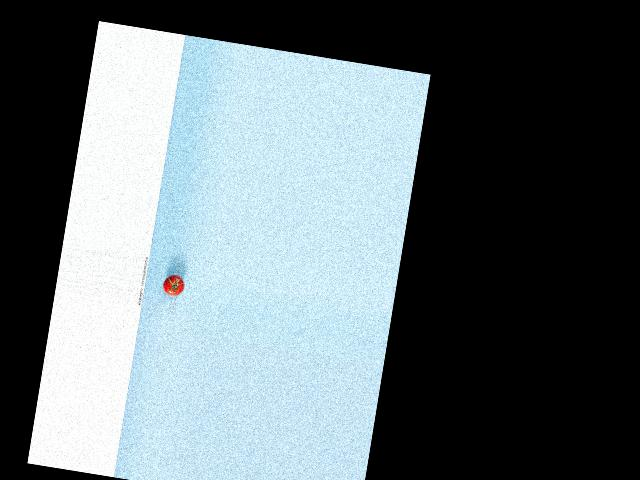tomato: (161, 274, 185, 297)
